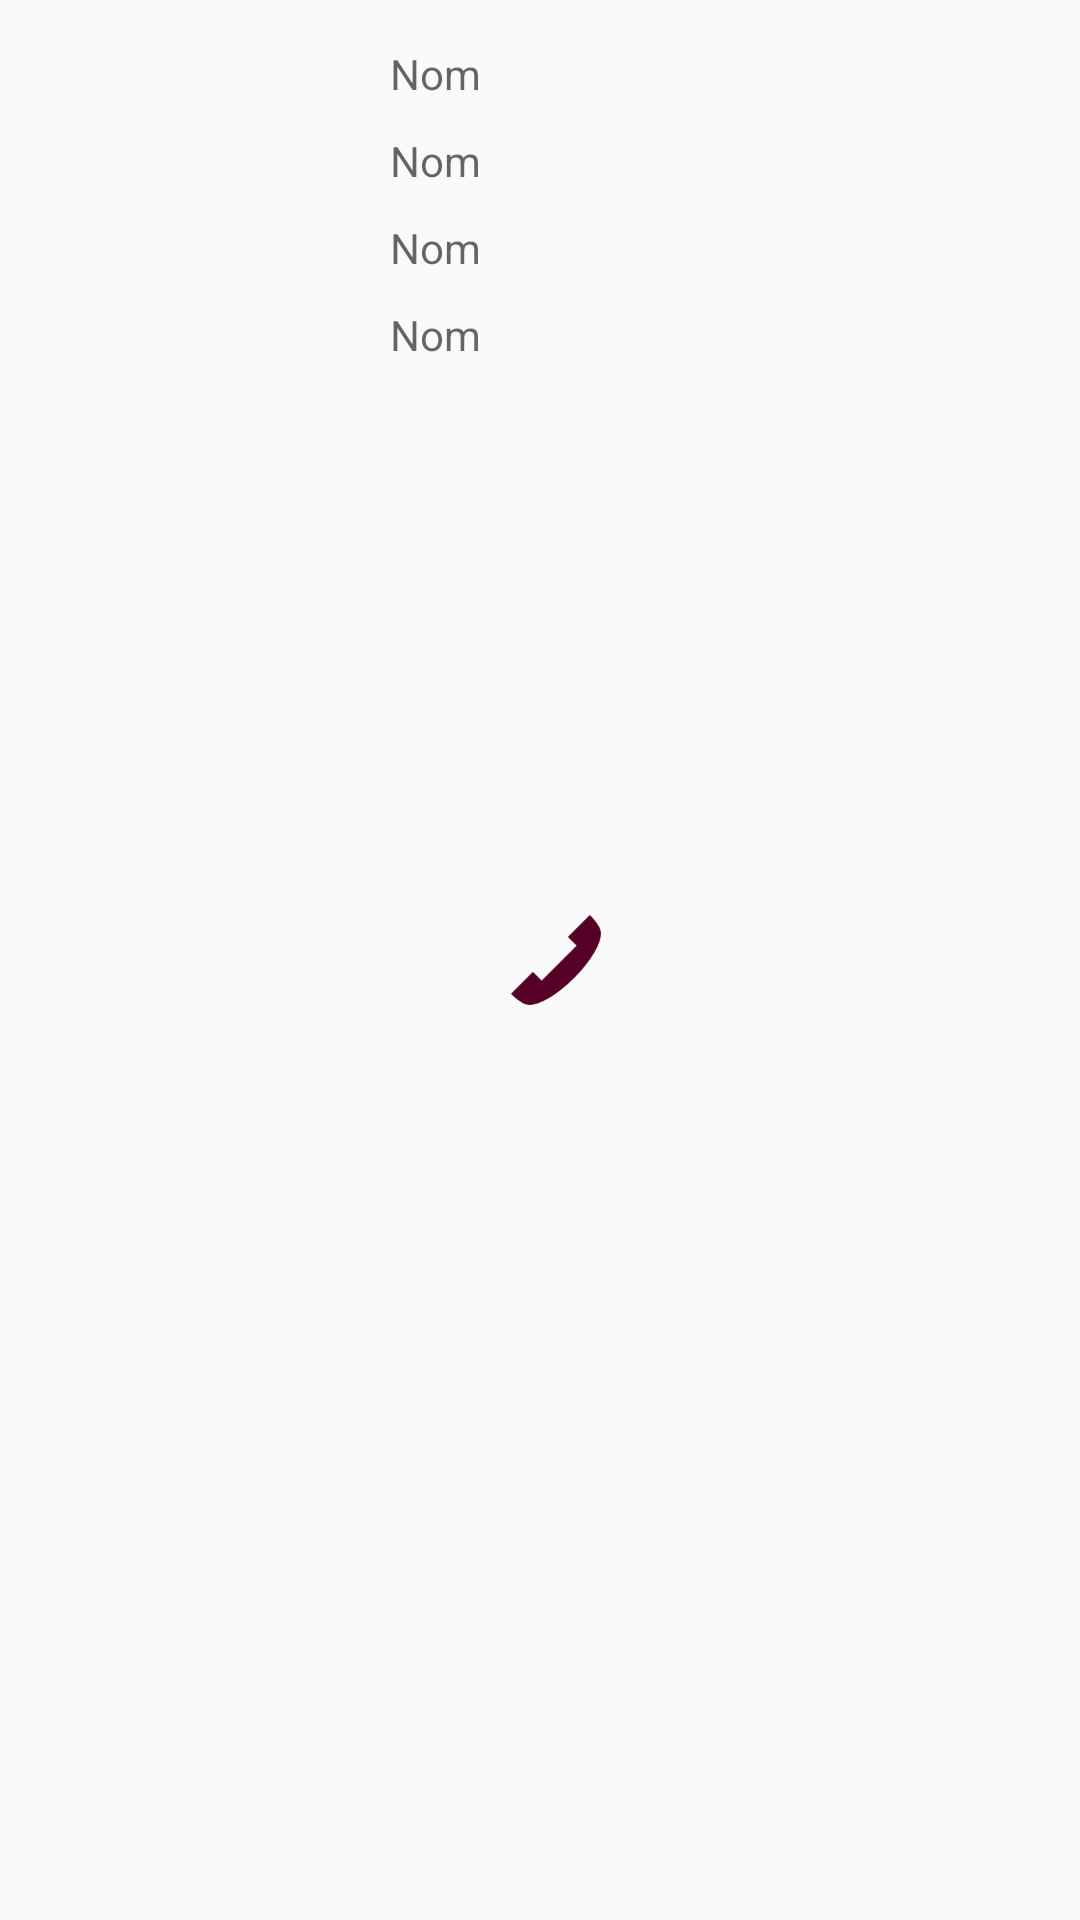

Named icons in this screenshot (1080w x 1920h) and their bounding boxes, {"left": x1, "top": y1, "right": x2, "bottom": y2}:
phone: {"left": 511, "top": 915, "right": 601, "bottom": 1005}
